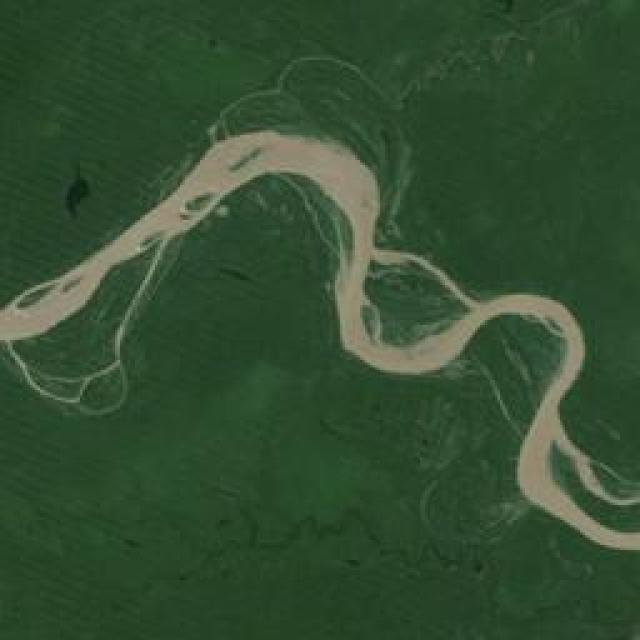River: (0, 119, 640, 555)
